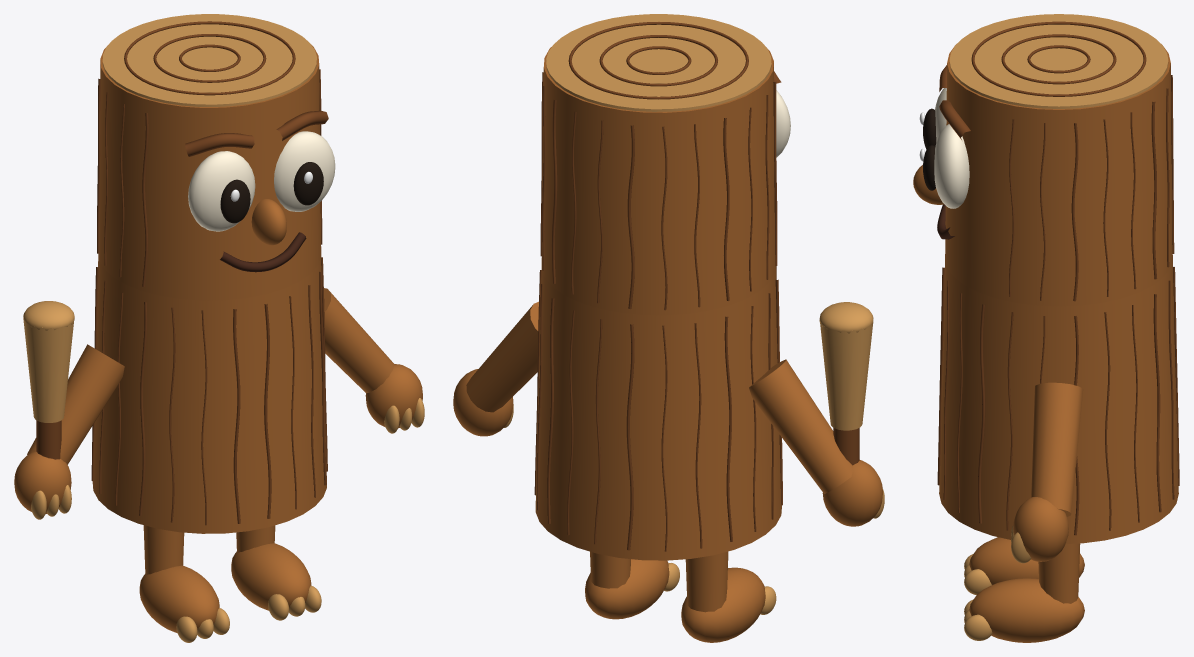
Rendered from tung_tung_sahur.glb.
3 renders of one model, left to right at view 1: azimuth 30°, elevation 25°; view 2: azimuth 150°, elevation 25°; view 3: azimuth 270°, elevation 25°, orthographic. The views are drawn at different scales.
Visible parts, largest first — view 1: TS_Head, TS_Torso, TS_Hand_R, TS_Foot_L, TS_Foot_R, TS_Arm_R, TS_Arm_L, TS_Hand_L, TS_Leg_R, TS_Leg_L; view 2: TS_Head, TS_Torso, TS_Hand_R, TS_Arm_R, TS_Arm_L, TS_Foot_R, TS_Foot_L, TS_Leg_R, TS_Hand_L, TS_Leg_L; view 3: TS_Head, TS_Torso, TS_Foot_L, TS_Arm_L, TS_Hand_L, TS_Foot_R, TS_Leg_L.
Boxes of the visible parts, <box> form: TS_Head: <box>97,14,335,300</box>; TS_Torso: <box>91,254,327,533</box>; TS_Hand_R: <box>14,301,74,519</box>; TS_Foot_L: <box>231,543,321,620</box>; TS_Foot_R: <box>139,565,229,642</box>; TS_Arm_R: <box>27,344,124,464</box>; TS_Arm_L: <box>324,288,394,393</box>; TS_Hand_L: <box>365,364,424,433</box>; TS_Leg_R: <box>143,525,184,575</box>; TS_Leg_L: <box>236,525,275,552</box>; TS_Head: <box>540,14,790,315</box>; TS_Torso: <box>534,266,782,560</box>; TS_Hand_R: <box>819,302,884,526</box>; TS_Arm_R: <box>749,359,852,493</box>; TS_Arm_L: <box>466,301,538,412</box>; TS_Foot_R: <box>681,567,776,642</box>; TS_Foot_L: <box>585,559,679,619</box>; TS_Leg_R: <box>685,551,728,612</box>; TS_Hand_L: <box>453,369,513,436</box>; TS_Leg_L: <box>590,551,630,588</box>; TS_Head: <box>913,14,1174,306</box>; TS_Torso: <box>937,259,1179,543</box>; TS_Foot_L: <box>964,578,1084,642</box>; TS_Arm_L: <box>1031,382,1083,516</box>; TS_Hand_L: <box>1011,497,1068,563</box>; TS_Foot_R: <box>964,537,1084,594</box>; TS_Leg_L: <box>1038,543,1080,603</box>.
Bounding box in the file's own units: 1.19 × 1.54 × 0.6675.
